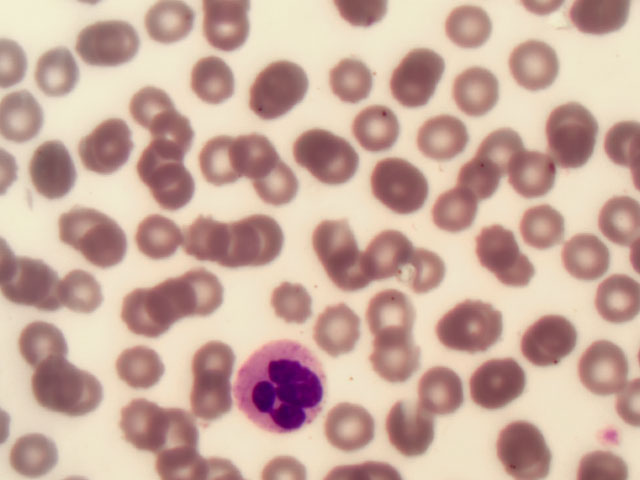Platelets: (597, 425, 623, 447)
RBC: (73, 17, 126, 68), (95, 18, 148, 69), (178, 50, 231, 101), (201, 6, 254, 57), (246, 65, 299, 116), (128, 73, 181, 124), (137, 97, 190, 148), (131, 129, 184, 180), (147, 164, 200, 215), (82, 120, 135, 171), (20, 138, 73, 189), (4, 90, 57, 141), (26, 47, 79, 98), (61, 198, 114, 249), (76, 223, 129, 274), (126, 214, 179, 265), (172, 218, 225, 269), (213, 217, 266, 268), (239, 212, 292, 263), (190, 269, 243, 320), (148, 273, 201, 324), (127, 285, 180, 336), (67, 268, 120, 319), (6, 260, 59, 311), (20, 313, 73, 364), (22, 358, 75, 409), (71, 368, 124, 419), (122, 344, 175, 395), (182, 327, 235, 378), (183, 368, 236, 419), (116, 396, 169, 447), (136, 398, 189, 449), (318, 397, 371, 448), (318, 313, 371, 364), (272, 287, 325, 338), (311, 214, 364, 265), (331, 238, 384, 289), (364, 226, 417, 277), (394, 240, 447, 291), (367, 287, 420, 338), (377, 329, 430, 380), (408, 352, 461, 403), (387, 404, 440, 455), (468, 360, 521, 411), (448, 300, 501, 351), (519, 314, 572, 365), (576, 335, 629, 386), (499, 423, 552, 474), (5, 429, 58, 480), (178, 133, 231, 184), (229, 121, 282, 172), (255, 159, 308, 210), (297, 127, 350, 178), (355, 106, 408, 157), (333, 57, 386, 108), (385, 67, 438, 118), (397, 42, 450, 93), (444, 5, 497, 56), (507, 40, 560, 91), (451, 67, 504, 118), (427, 113, 480, 164), (467, 117, 520, 168), (454, 150, 507, 201), (442, 181, 495, 232), (510, 148, 563, 199), (382, 160, 435, 211), (554, 110, 607, 161), (528, 192, 581, 243), (471, 208, 524, 259), (483, 240, 536, 291), (563, 231, 616, 282), (587, 194, 640, 245), (587, 266, 640, 317), (575, 2, 628, 53), (144, 1, 197, 51)
WBC: (234, 342, 328, 436)
